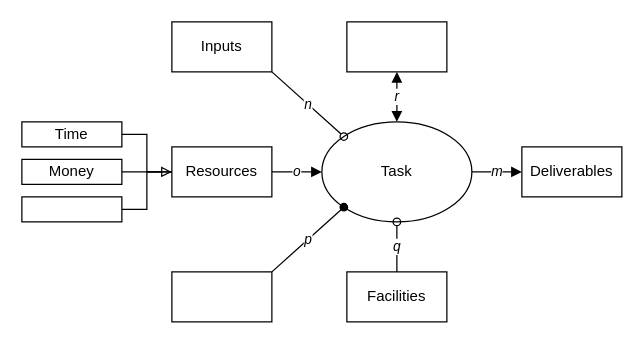
Image size: 644x344. Some labels were removed from this diagram. The centre of each missing label's shape, as x and y in pixels:
"Consumables" goes at point (71, 209).
"Personnel" goes at point (221, 296).
"System Elements" goes at point (396, 46).
